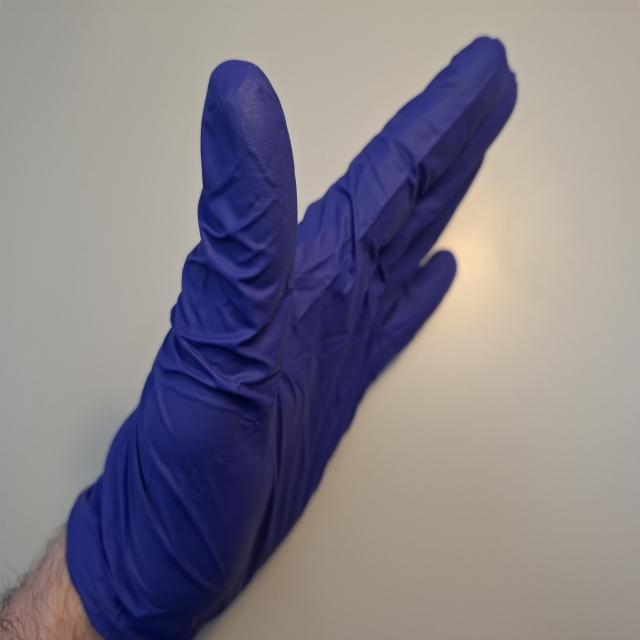glove_on: (62, 30, 520, 640)
